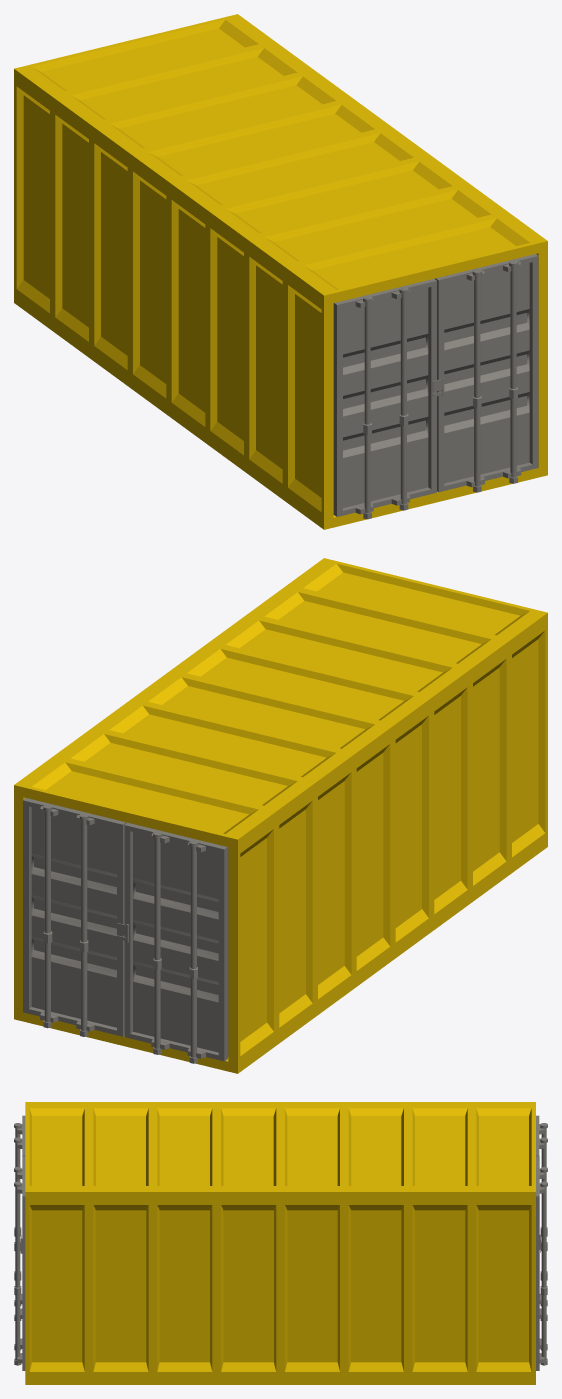
The model's file is CargoContainer.fbx.
3 views of the same model, one above another, from view 1: azimuth 30°, elevation 25°; view 2: azimuth 150°, elevation 25°; view 3: azimuth 270°, elevation 25° (orthographic). The views are drawn at different scales.
Visible parts, largest first — view 1: CargoContainer, ContainerDoorLeft2, ContainerDoorRight2; view 2: CargoContainer, ContainerDoorRight1, ContainerDoorLeft1; view 3: CargoContainer, ContainerDoorRight2, ContainerDoorLeft1, ContainerDoorRight1, ContainerDoorLeft2.
Part boxes in pixels (x1,y1,x2,y2): CargoContainer: [14, 14, 547, 529]; ContainerDoorLeft2: [333, 278, 436, 519]; ContainerDoorRight2: [432, 254, 538, 492]; CargoContainer: [14, 558, 547, 1073]; ContainerDoorRight1: [117, 822, 228, 1063]; ContainerDoorLeft1: [23, 798, 126, 1036]; CargoContainer: [25, 1102, 535, 1384]; ContainerDoorRight2: [14, 1156, 25, 1370]; ContainerDoorLeft1: [536, 1156, 547, 1370]; ContainerDoorRight1: [536, 1115, 547, 1320]; ContainerDoorLeft2: [14, 1115, 25, 1320].
Size of the model in its own units: 250 by 250 by 628.
